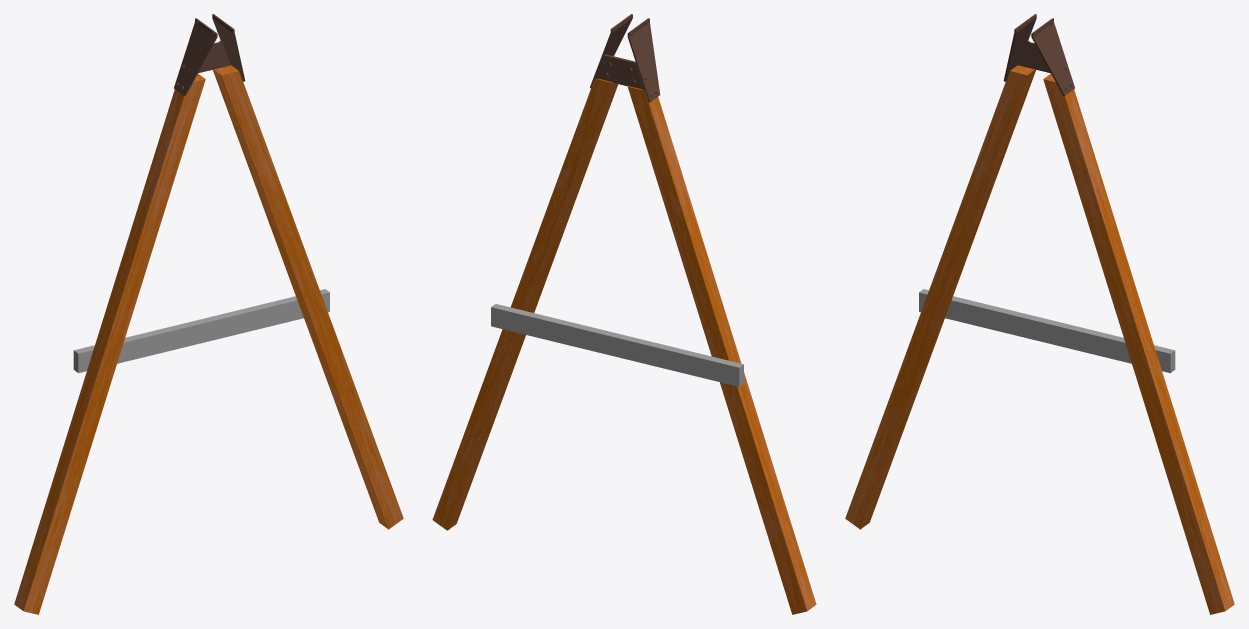
The model's file is Swing A-frame 10ft.glb.
The picture shows the model from 3 angles, left to right: view 1: azimuth 30°, elevation 25°; view 2: azimuth 150°, elevation 25°; view 3: azimuth 330°, elevation 25°; orthographic projection.
Parts seen in each view (by area): view 1: Swing A frame 10ft; view 2: Swing A frame 10ft; view 3: Swing A frame 10ft.
Boxes of the visible parts, x1,y1,x2,y2 form: Swing A frame 10ft: [14, 14, 403, 614]; Swing A frame 10ft: [432, 14, 816, 614]; Swing A frame 10ft: [845, 14, 1234, 614].
Size of the model in its own units: 2.36 by 3.26 by 0.2779.
1 material, 1 textured.
